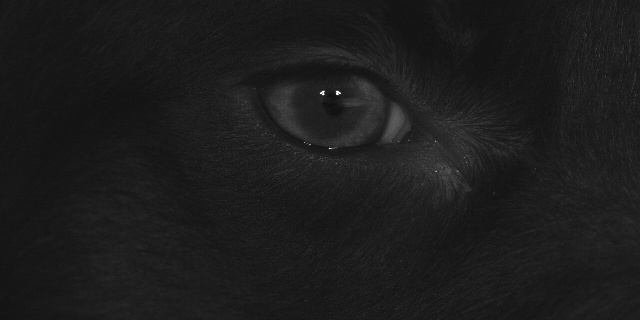iris: (252, 65, 425, 148)
